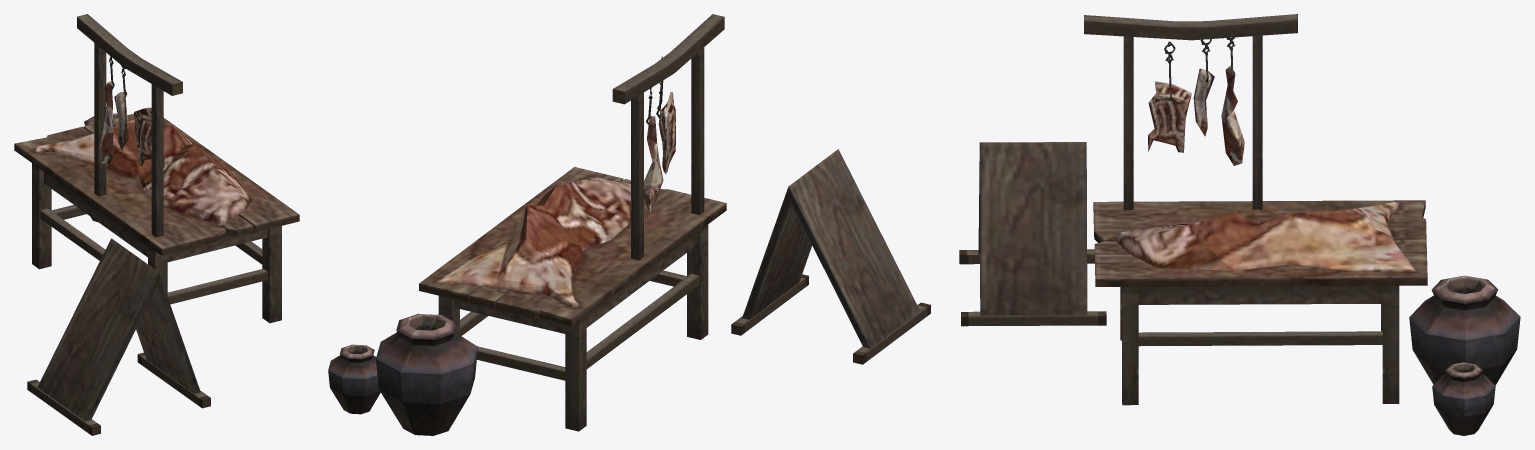
3 renders of one model, left to right at view 1: azimuth 30°, elevation 25°; view 2: azimuth 150°, elevation 25°; view 3: azimuth 270°, elevation 25°, orthographic. The views are drawn at different scales.
Parts seen in each view (by area): view 1: qingmo_obj_261 [10484642]; view 2: qingmo_obj_261 [10484642]; view 3: qingmo_obj_261 [10484642].
Boxes of the visible parts, x1=… form: qingmo_obj_261 [10484642]: x1=14, y1=14, x2=299, y2=435; qingmo_obj_261 [10484642]: x1=328, y1=14, x2=930, y2=435; qingmo_obj_261 [10484642]: x1=959, y1=14, x2=1520, y2=435.
Bounding box in the file's own units: 20.43 × 26.26 × 16.49.
Materials: 2 (2 with a texture image).
